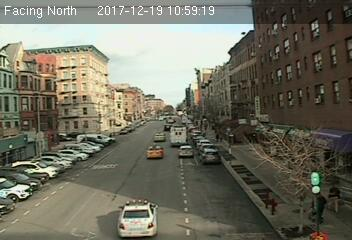car: (203, 150, 221, 165), (146, 144, 163, 158), (177, 145, 193, 157), (152, 132, 165, 141)
police: (117, 198, 161, 238)
truck: (169, 126, 186, 147)
